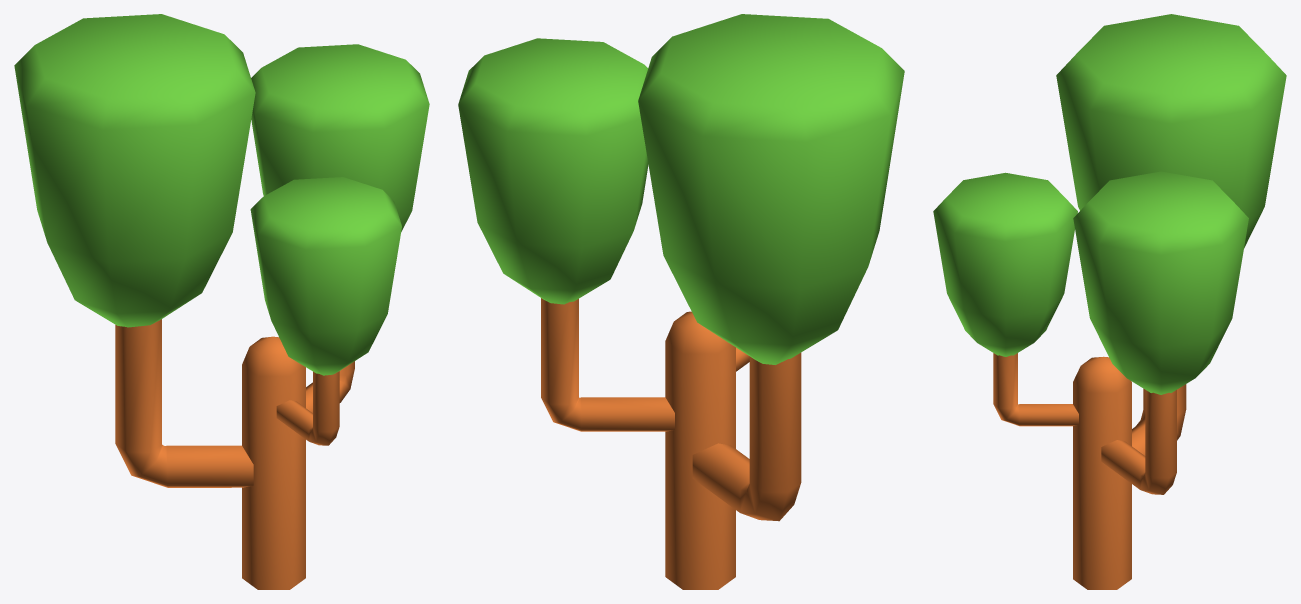
File: Tree.020.fbx
3 views of the same model, side by side, from view 1: azimuth 30°, elevation 25°; view 2: azimuth 150°, elevation 25°; view 3: azimuth 270°, elevation 25° (orthographic). The views are drawn at different scales.
Parts seen in each view (by area): view 1: Tree.020; view 2: Tree.020; view 3: Tree.020.
Boxes of the visible parts, x1,y1,x2,y2 form: Tree.020: (14, 14, 429, 589); Tree.020: (458, 14, 904, 589); Tree.020: (933, 14, 1286, 589).
Size of the model in its own units: 546 by 699 by 467.
